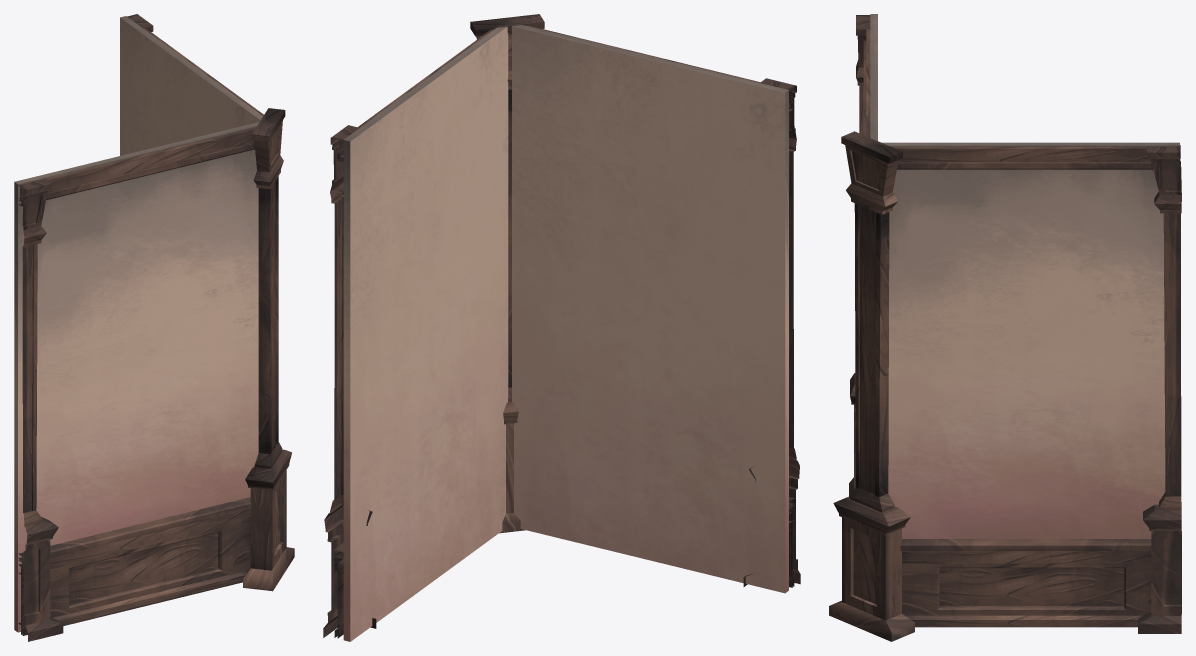
The model's file is Mesh_Wall_Outercorner.fbx.
The picture shows the model from 3 angles, left to right: view 1: azimuth 30°, elevation 25°; view 2: azimuth 150°, elevation 25°; view 3: azimuth 270°, elevation 25°; orthographic projection. The views are drawn at different scales.
Visible parts, largest first — view 1: Outer_Corner_Wall; view 2: Outer_Corner_Wall; view 3: Outer_Corner_Wall.
Part boxes in pixels (bbox=[...]): Outer_Corner_Wall: bbox=[14, 14, 294, 641]; Outer_Corner_Wall: bbox=[323, 14, 800, 641]; Outer_Corner_Wall: bbox=[829, 14, 1181, 641].
Bounding box in the file's own units: 0.7029 × 1.06 × 0.7037.
